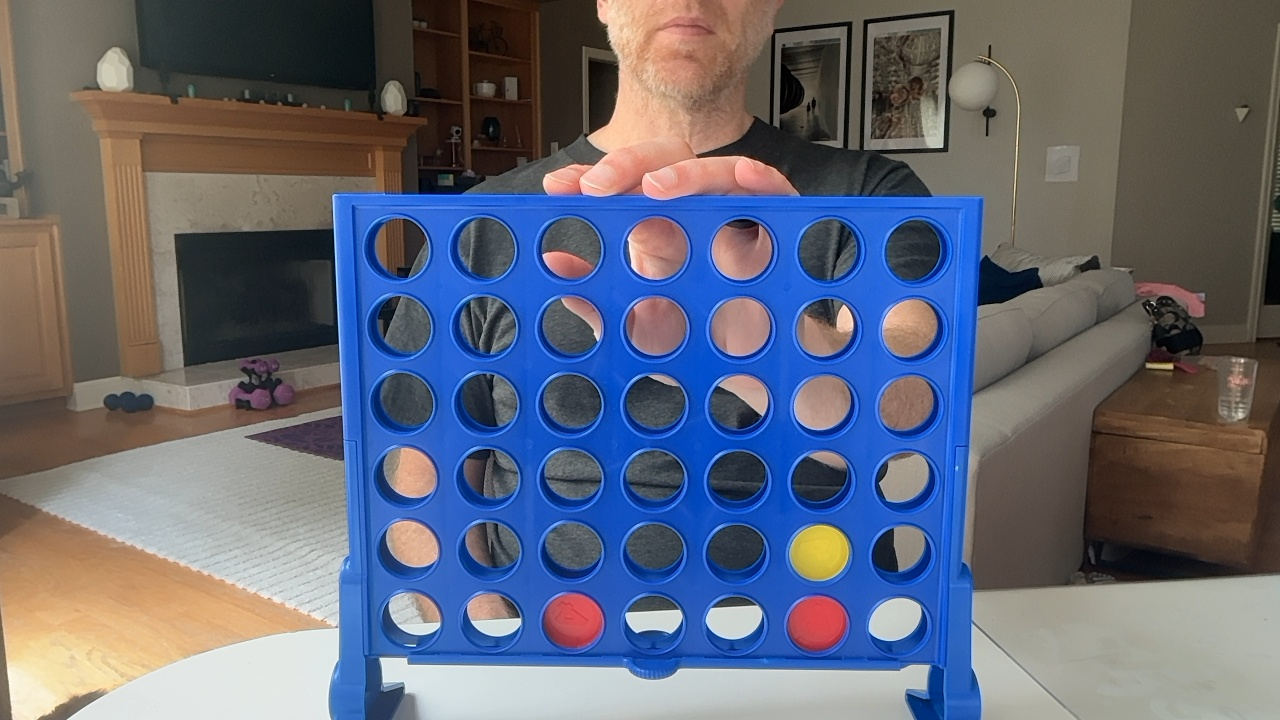red piece: (787, 596, 848, 652), (543, 593, 603, 649)
yellow piece: (789, 524, 850, 581)
